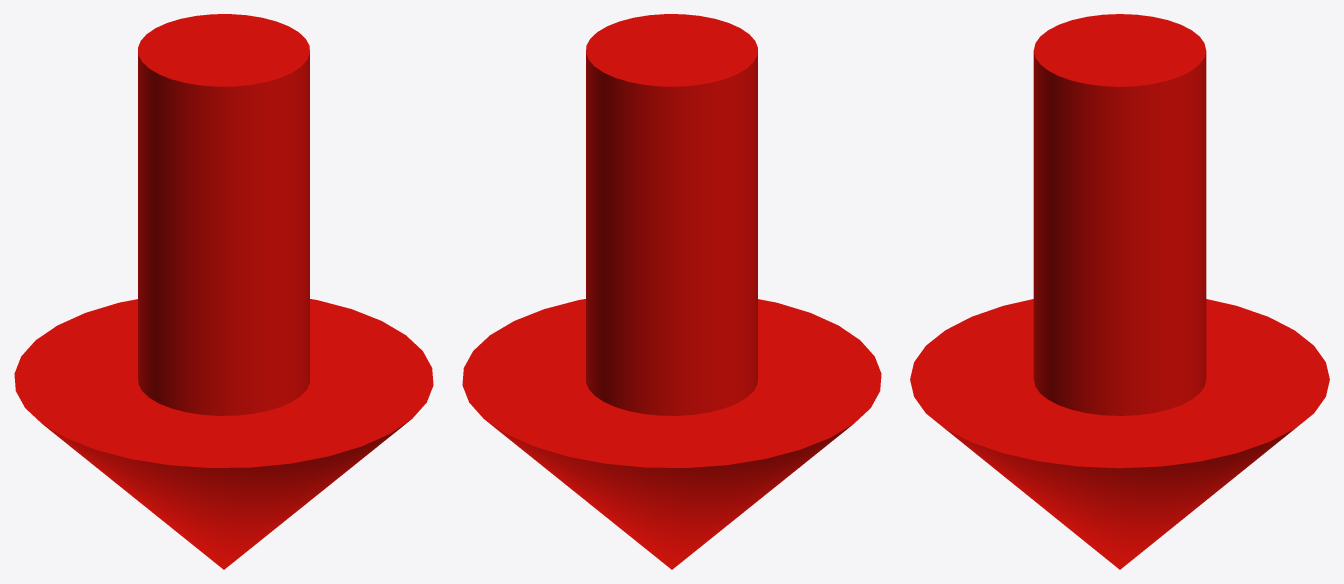
The model's file is seta.fbx.
3 views of the same model, side by side, from view 1: azimuth 30°, elevation 25°; view 2: azimuth 150°, elevation 25°; view 3: azimuth 270°, elevation 25° (orthographic).
Parts seen in each view (by area): view 1: Cylinder; view 2: Cylinder; view 3: Cylinder.
Boxes of the visible parts, left/top/right/bottom form: Cylinder: left=14, top=14, right=433, bottom=569; Cylinder: left=462, top=14, right=881, bottom=569; Cylinder: left=910, top=14, right=1329, bottom=569.
Bounding box in the file's own units: 38.99 × 53.23 × 38.99.
